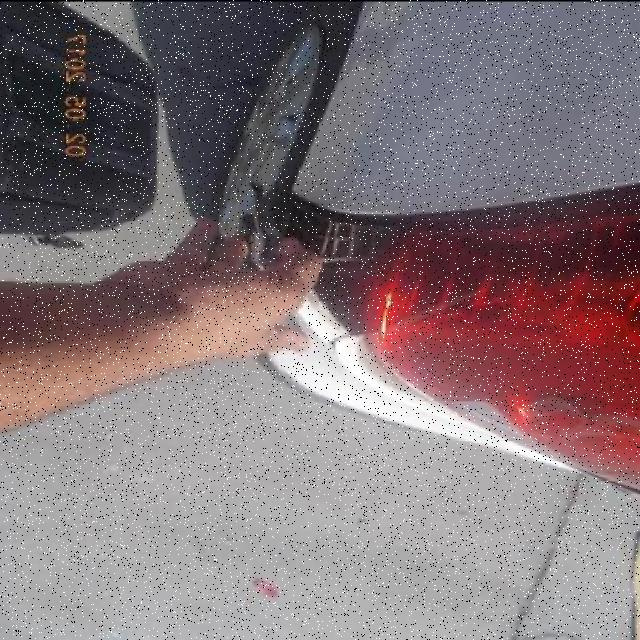damage: (253, 179, 399, 335)
